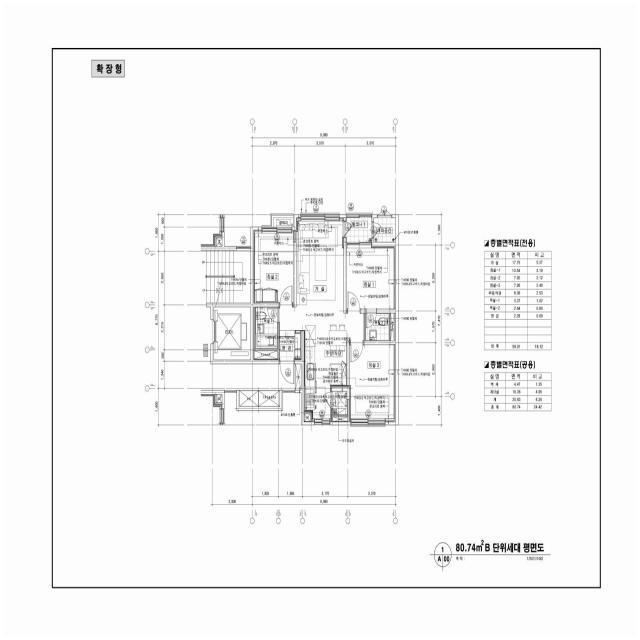space_balconi: (346, 218, 372, 242)
space_bedroom: (349, 345, 395, 422), (346, 247, 395, 309), (254, 230, 293, 303)
space_elevator: (214, 307, 251, 360)
space_elevator_hall: (201, 303, 295, 390)
space_front: (279, 330, 301, 361)
space_kitchen: (304, 330, 346, 420)
space_living_room: (279, 221, 364, 341)
space_other: (374, 218, 395, 242), (332, 391, 348, 415), (259, 391, 280, 406), (240, 391, 258, 406), (254, 351, 278, 360), (295, 364, 301, 390), (391, 313, 395, 341), (333, 417, 348, 421), (216, 394, 222, 403), (216, 238, 222, 246), (304, 414, 310, 421)
space_staircase: (201, 250, 251, 303)
space_toilet: (255, 307, 278, 349), (365, 313, 389, 341)
